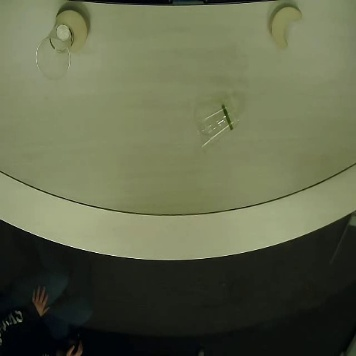empty_cup: (195, 99, 241, 152), (36, 23, 73, 81)
puck: (55, 10, 88, 54), (269, 5, 302, 49)
